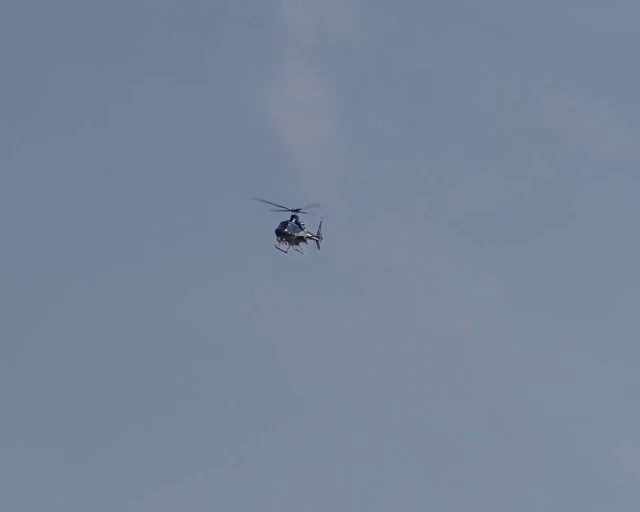HELICOPTER: (250, 196, 325, 255)
